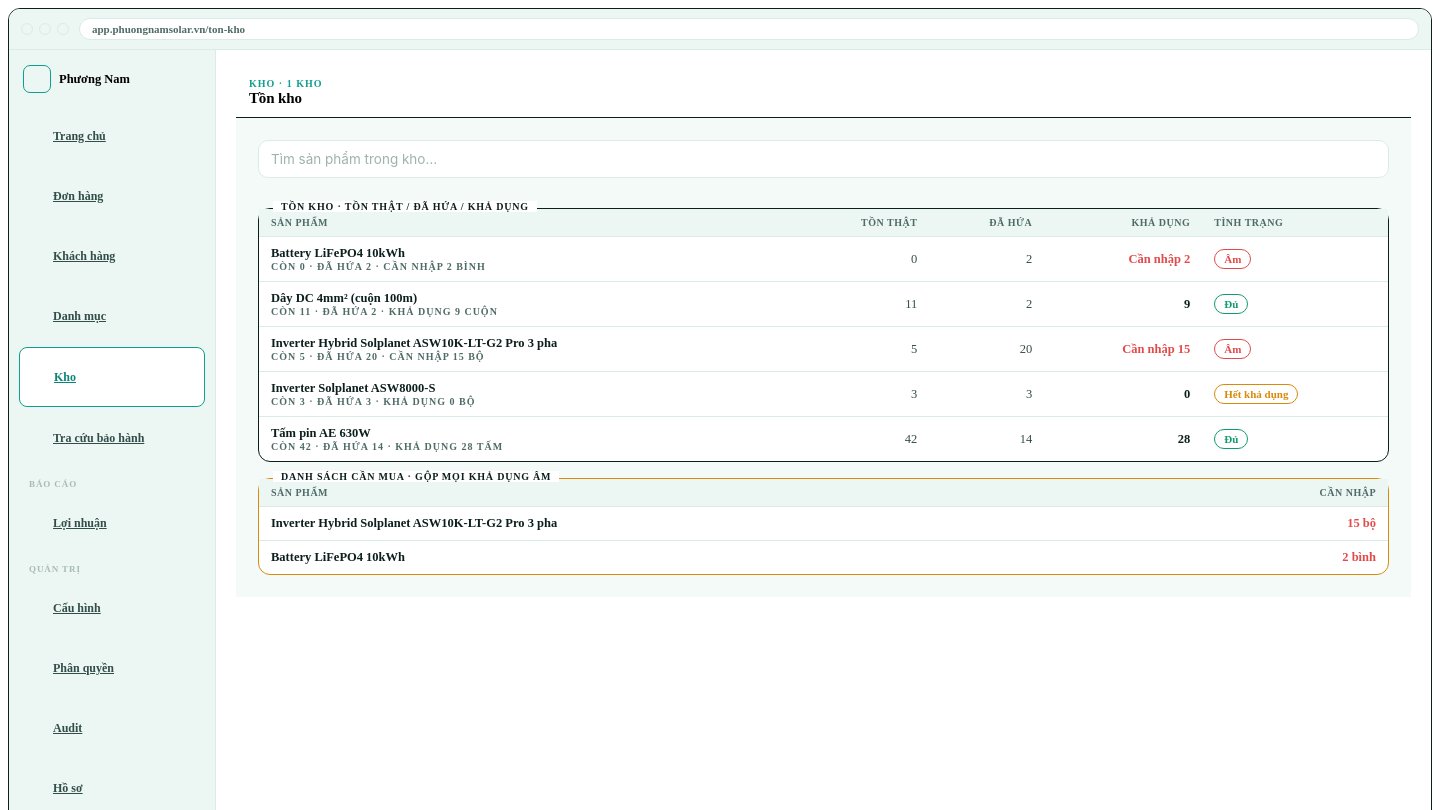
Scenario: InventoryScreen — hành vi › trả lời cũ về SAU trả lời mới thì không vẽ đè
In the field labelled "Tìm sản phẩm trong kho": (824, 159) [258,140,1389,178], type "d"
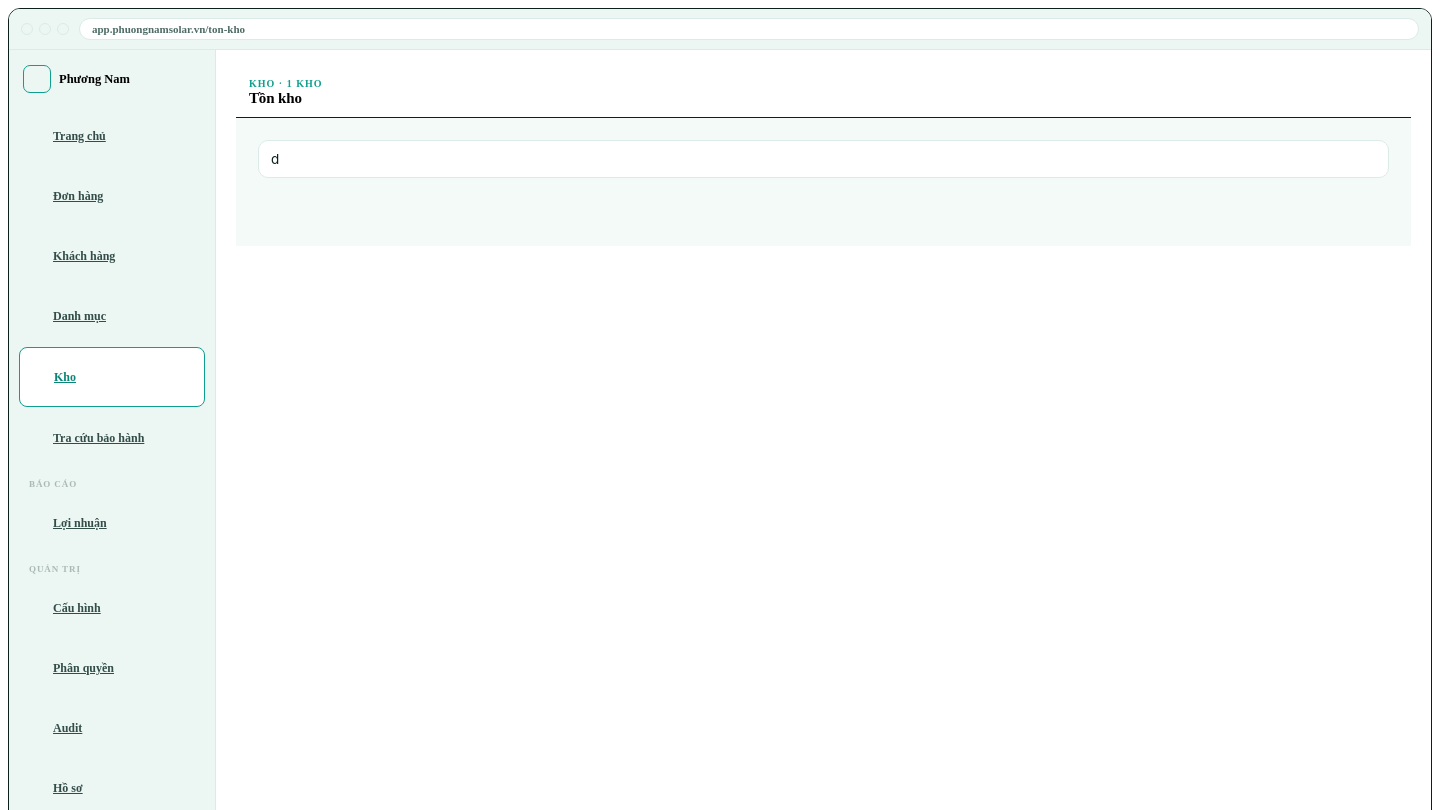
Replace the text in the field named "Tìm sản phẩm trong kho" with "dây": (824, 159) [258,140,1389,178]
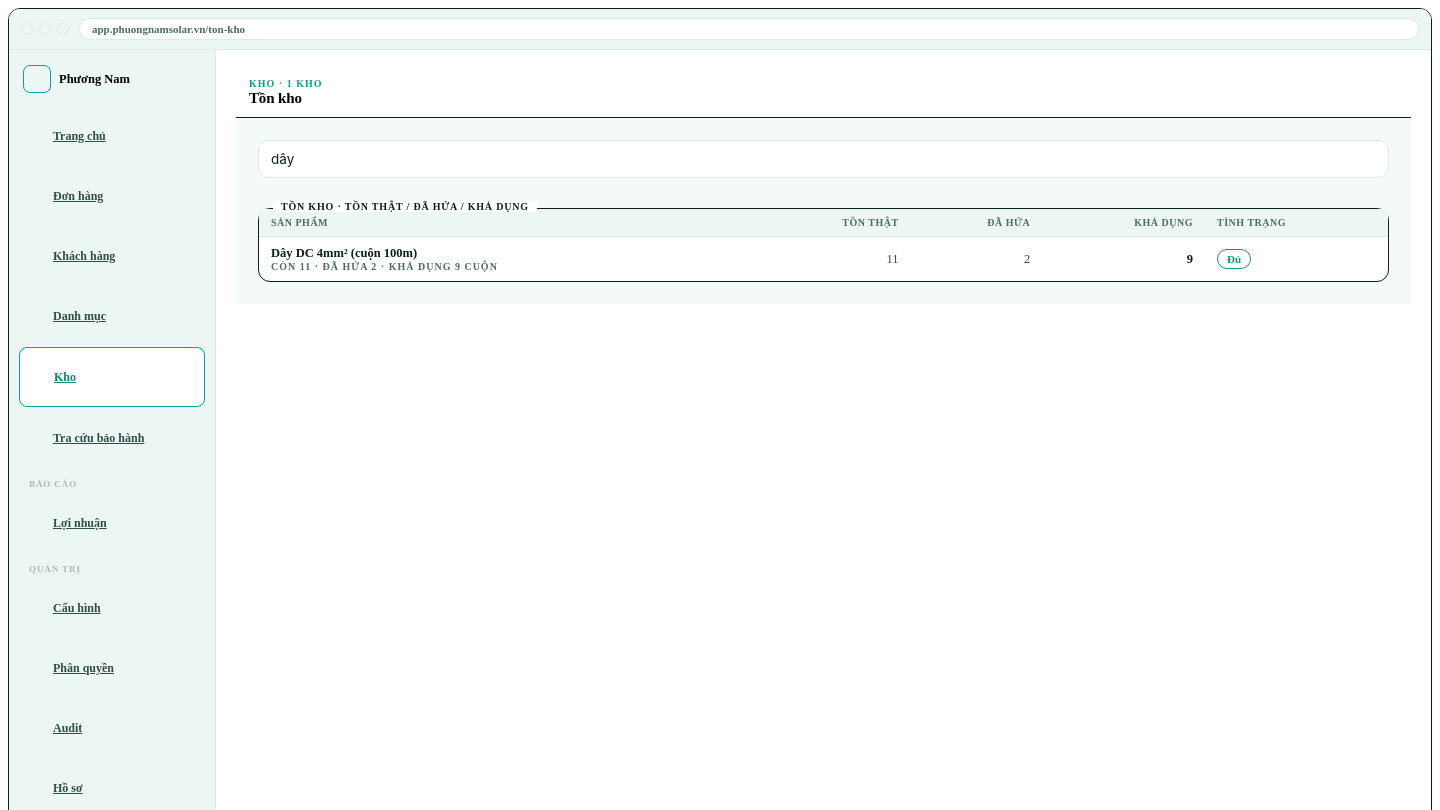
Check: the text "Tấm pin AE 630W" is not shown
Check: the text "Dây DC 4mm² (cuộn 100m)" is shown, box [271,246,417,260]
